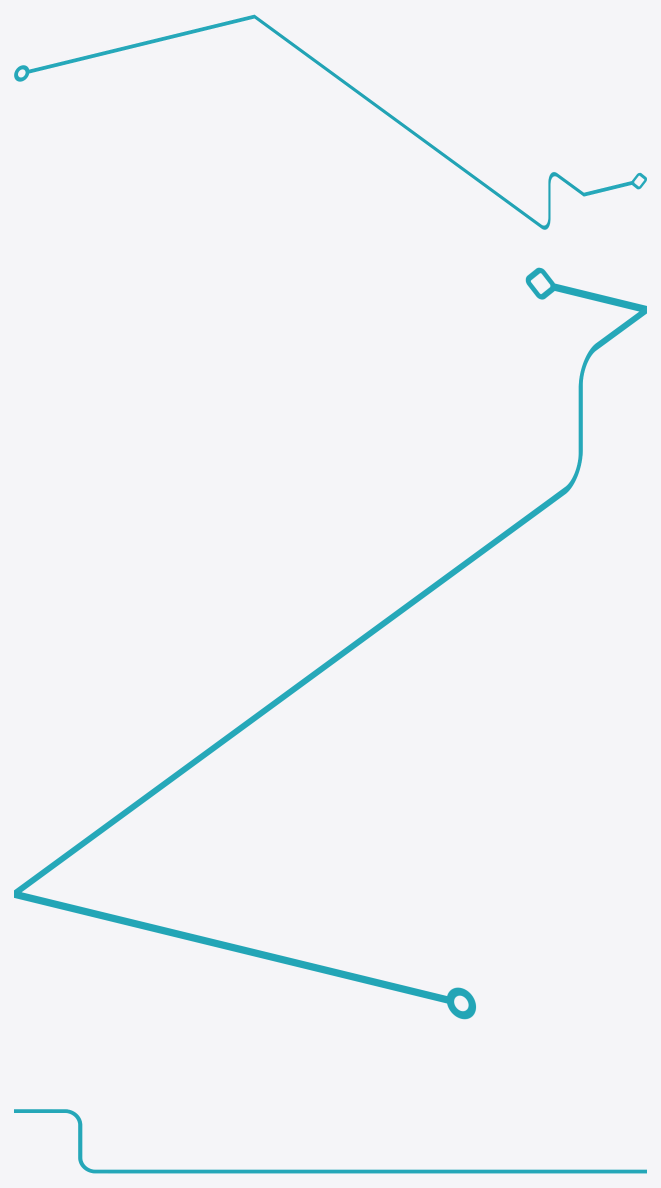
File: 9_1_cl_inactive.glb
3 views of the same model, one above another, from view 1: azimuth 30°, elevation 25°; view 2: azimuth 150°, elevation 25°; view 3: azimuth 270°, elevation 25° (orthographic). The views are drawn at different scales.
Parts seen in each view (by area): view 1: 9_1_cl_inactive; view 2: 9_1_cl_inactive; view 3: 9_1_cl_inactive.
Boxes of the visible parts, x1,y1,x2,y2 form: 9_1_cl_inactive: (14, 14, 646, 229); 9_1_cl_inactive: (14, 267, 646, 1019); 9_1_cl_inactive: (14, 1109, 646, 1173).
Bounding box in the file's own units: 6.39 × 1.6 × 12.
1 material, 1 textured.
